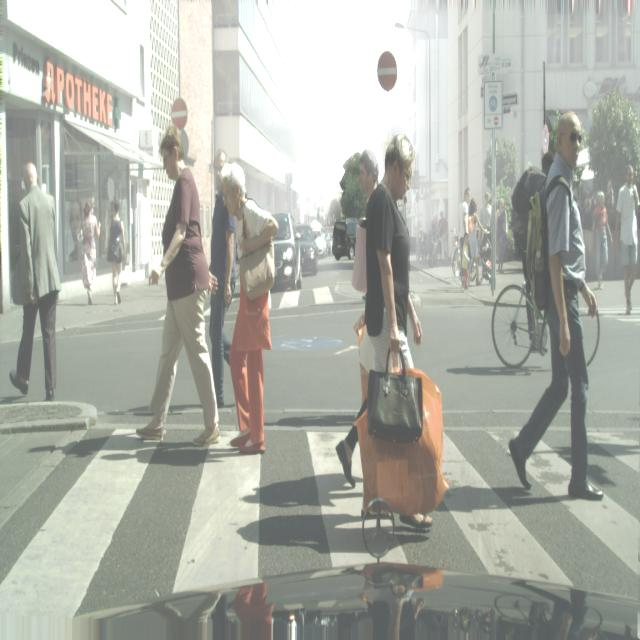car: (491, 279, 545, 369)
person: (507, 111, 602, 504), (353, 134, 446, 520), (339, 137, 418, 511), (136, 123, 220, 445), (222, 162, 277, 455), (9, 161, 62, 401), (209, 147, 233, 407), (616, 164, 640, 314), (78, 197, 100, 306), (106, 199, 126, 305), (592, 190, 613, 289), (468, 190, 483, 289), (458, 188, 471, 289), (496, 198, 507, 274), (438, 210, 448, 262)
truck: (271, 212, 302, 292), (296, 222, 318, 276), (332, 218, 358, 261), (312, 226, 326, 256)
